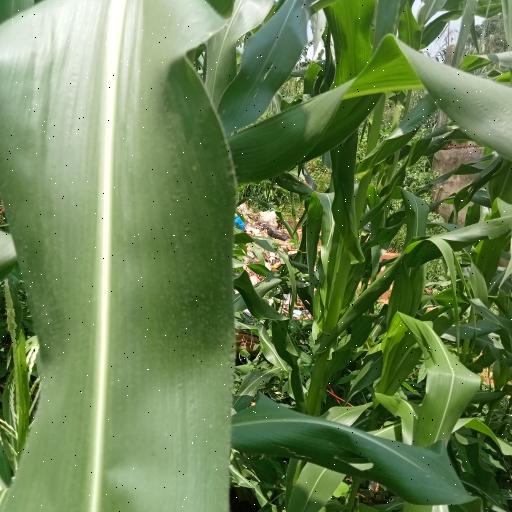Corn_Brown_Spots: (0, 0, 239, 512)
